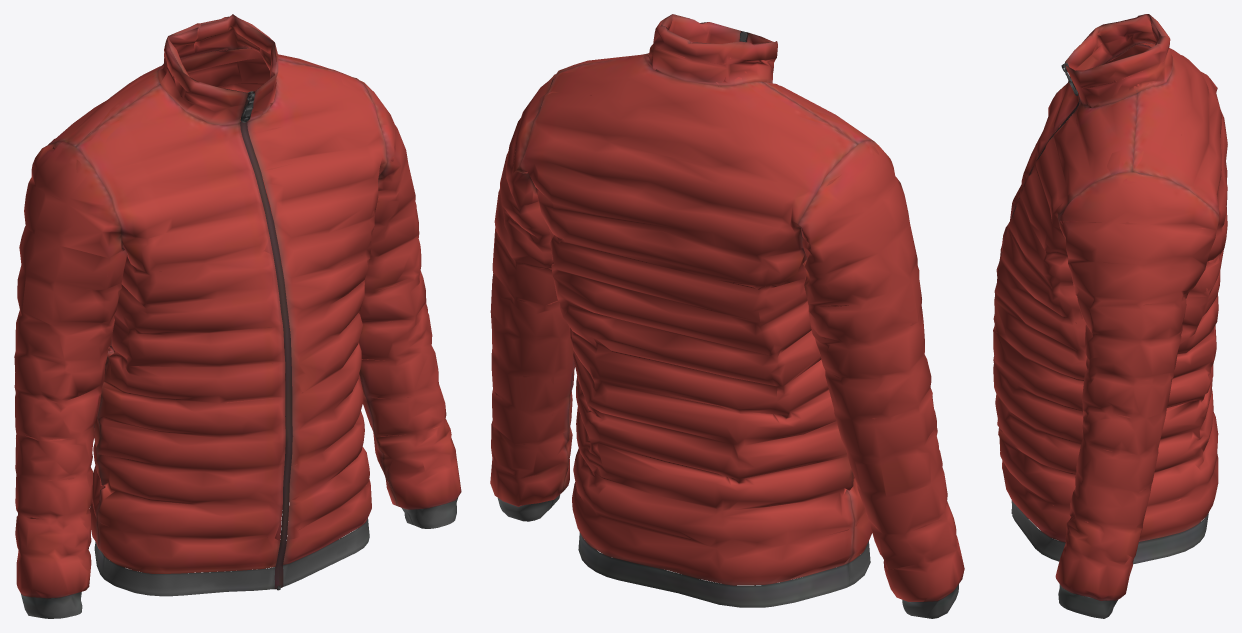
The model's file is chaqueta-acolchada-roja-lite.glb.
The picture shows the model from 3 angles, left to right: view 1: azimuth 30°, elevation 25°; view 2: azimuth 150°, elevation 25°; view 3: azimuth 270°, elevation 25°; orthographic projection. The views are drawn at different scales.
Parts seen in each view (by area): view 1: Object_6, Object_10; view 2: Object_6, Object_10; view 3: Object_6, Object_10.
Part boxes in pixels (x1,y1,x2,y2): Object_6: (14, 14, 461, 598); Object_10: (21, 91, 458, 618); Object_6: (490, 14, 964, 601); Object_10: (497, 31, 958, 618); Object_6: (993, 14, 1227, 600); Object_10: (994, 62, 1208, 618).
Size of the model in its own units: 0.6072 by 0.7 by 0.3008.
4 materials, 4 textured.
